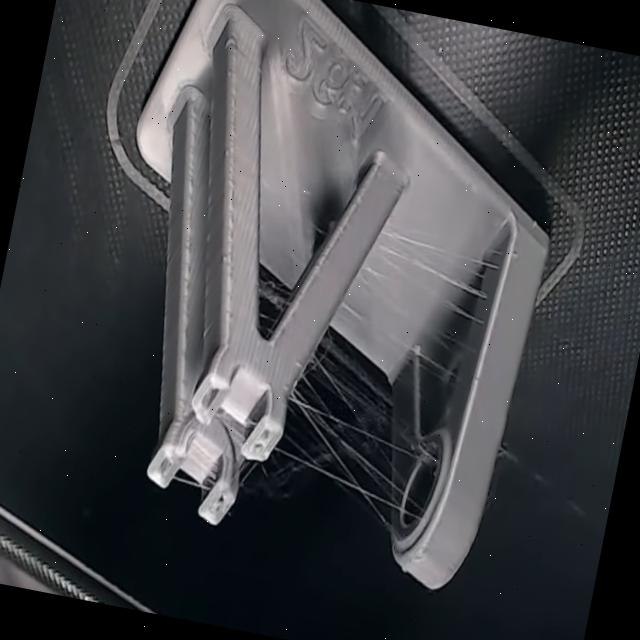stringing: (243, 382, 443, 531), (326, 216, 500, 384), (174, 444, 227, 495)
